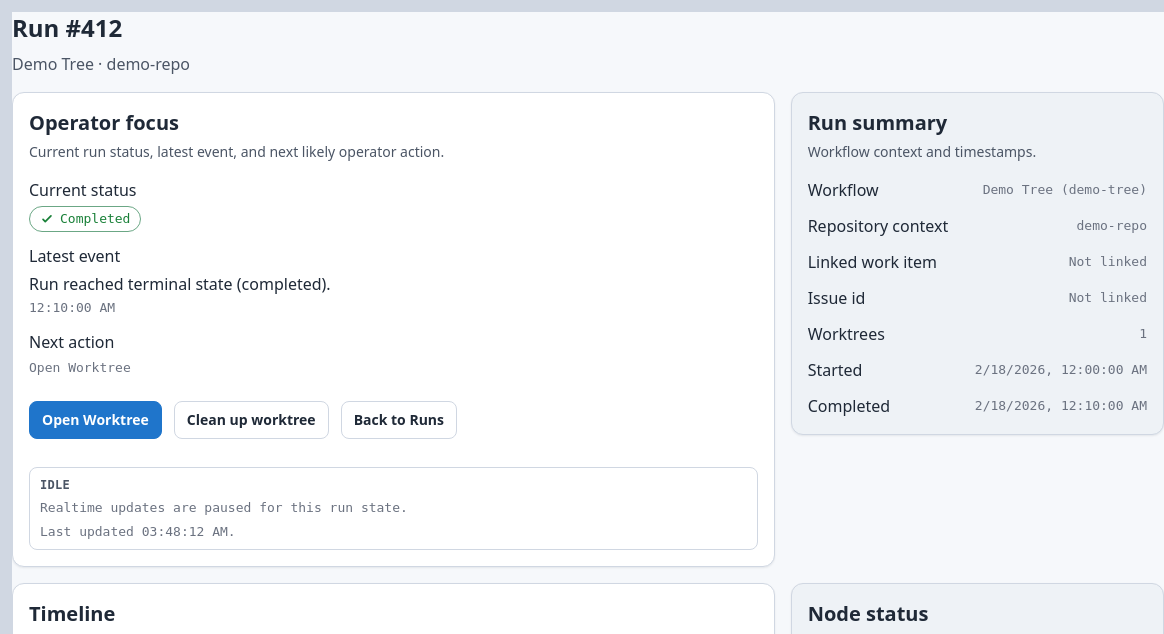
Test: RunDetailContent realtime updates › applies cleanup-worktree metadata when immediate refresh fails with polling disabled
Click the button "Clean up worktree". click: point(251, 420)
box: top-left (174, 401), bottom-right (329, 439)
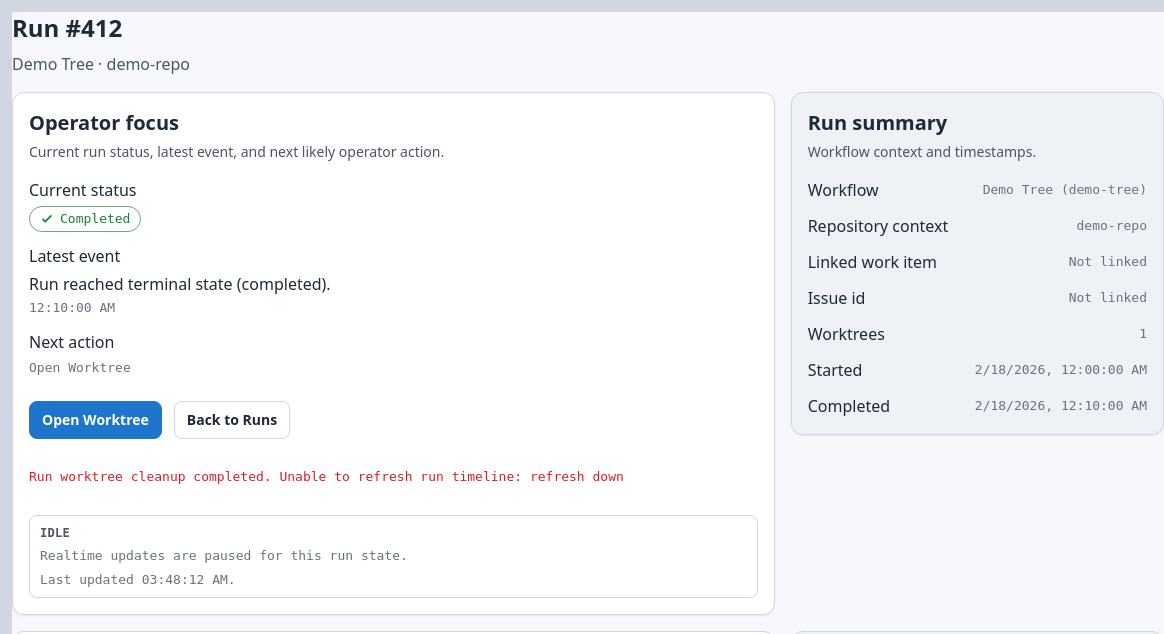
Expected: the text "Run worktree cleanup completed. Unable to refresh run timeline: refresh down" is shown, top-left (29, 469), bottom-right (624, 484)
Expected: the button "Clean up worktree" is gone
